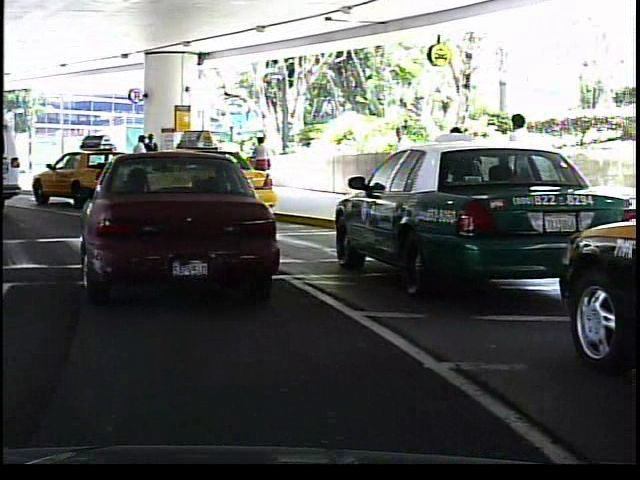person: (499, 108, 545, 230), (435, 115, 485, 226), (384, 119, 418, 205), (250, 134, 273, 192), (129, 132, 150, 189), (144, 129, 162, 187)
